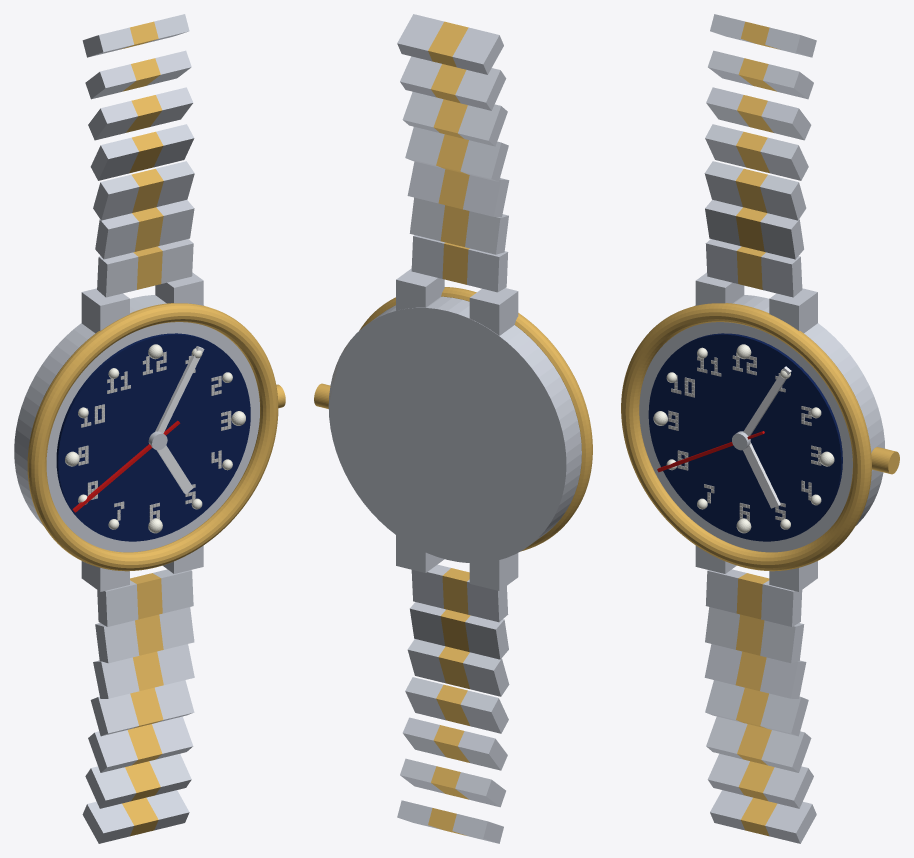
3 renders of one model, left to right at view 1: azimuth 30°, elevation 25°; view 2: azimuth 150°, elevation 25°; view 3: azimuth 330°, elevation 25°, orthographic.
Visible parts, largest first — view 1: wristwatch; view 2: wristwatch; view 3: wristwatch.
Boxes of the visible parts, bbox=[...] form: wristwatch: bbox=[14, 14, 285, 843]; wristwatch: bbox=[314, 14, 592, 843]; wristwatch: bbox=[621, 14, 899, 843].
Bounding box in the file's own units: 4.4 × 13 × 0.9954.
